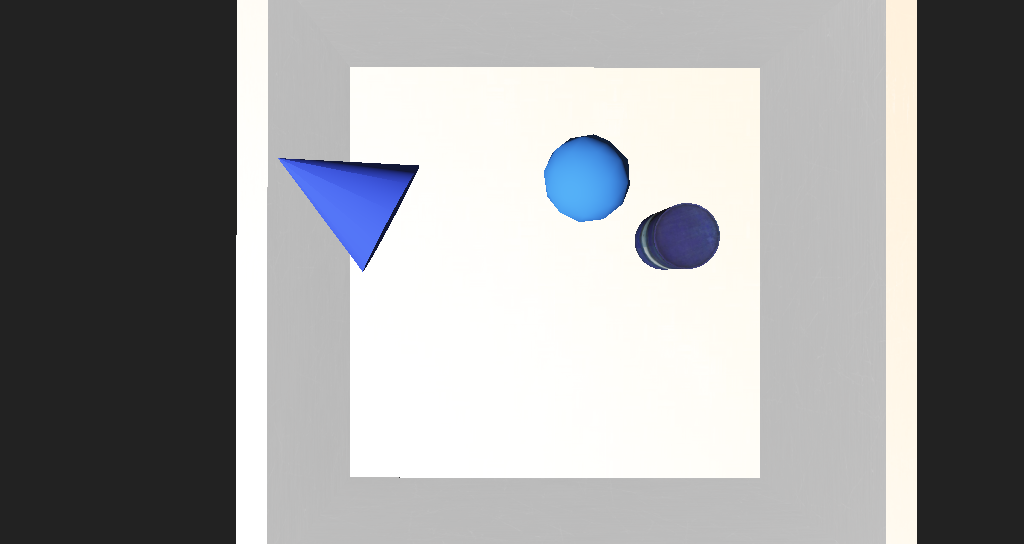cone: (566, 236, 620, 270)
cylinder: (273, 188, 414, 270)
sphere: (492, 196, 559, 243)
